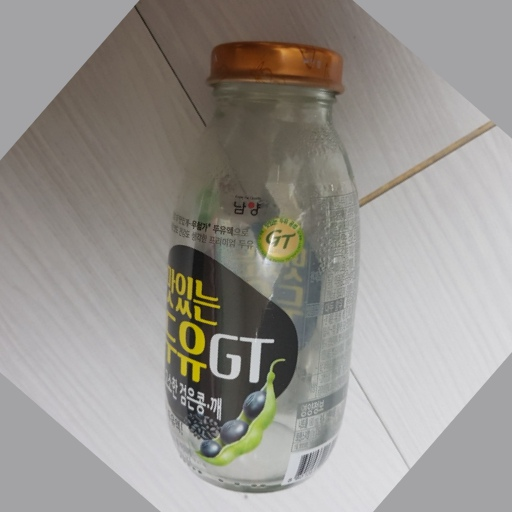Glass_4: (162, 40, 360, 489)
